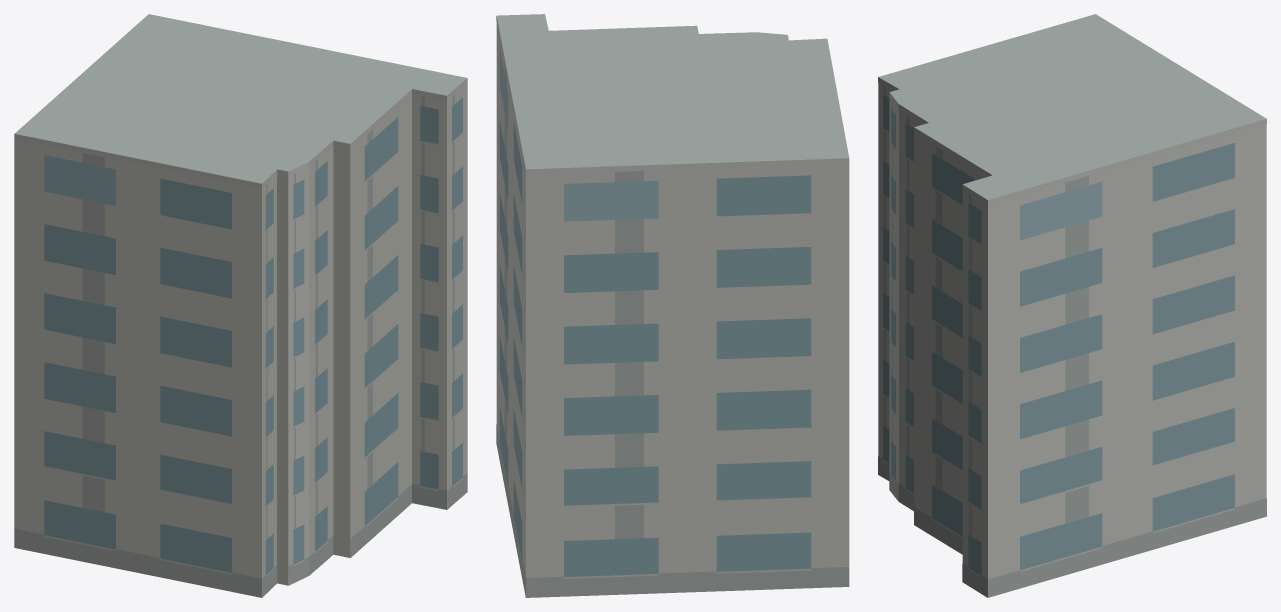
File: survey-upis-32939291.glb
3 renders of one model, left to right at view 1: azimuth 30°, elevation 25°; view 2: azimuth 150°, elevation 25°; view 3: azimuth 270°, elevation 25°, orthographic. The views are drawn at different scales.
Parts seen in each view (by area): view 1: survey-upis-32939291.tmp; view 2: survey-upis-32939291.tmp; view 3: survey-upis-32939291.tmp.
Boxes of the visible parts, <box> form: survey-upis-32939291.tmp: <box>14,14,467,597</box>; survey-upis-32939291.tmp: <box>496,14,849,597</box>; survey-upis-32939291.tmp: <box>878,14,1266,597</box>.
Bounding box in the file's own units: 18.47 × 18.4 × 16.3.
